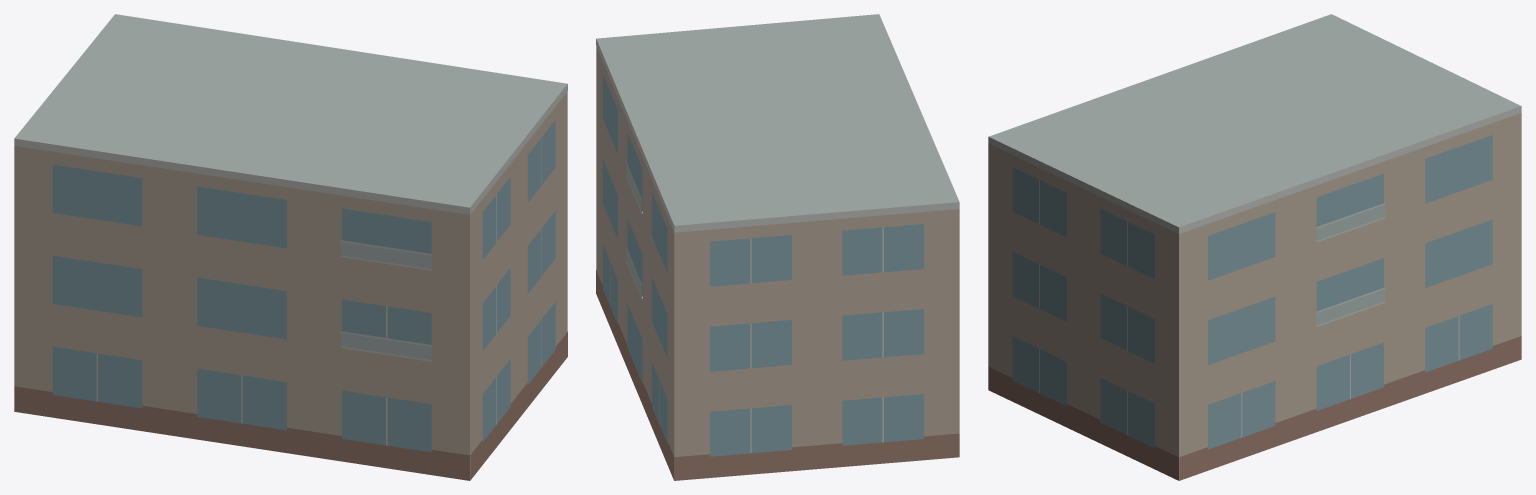
Rendered from survey-upis-32760645.glb.
3 renders of one model, left to right at view 1: azimuth 30°, elevation 25°; view 2: azimuth 150°, elevation 25°; view 3: azimuth 270°, elevation 25°, orthographic. The views are drawn at different scales.
Parts seen in each view (by area): view 1: survey-upis-32760645.tmp; view 2: survey-upis-32760645.tmp; view 3: survey-upis-32760645.tmp.
Boxes of the visible parts, x1,y1,x2,y2 form: survey-upis-32760645.tmp: (14, 14, 567, 480); survey-upis-32760645.tmp: (596, 14, 959, 480); survey-upis-32760645.tmp: (988, 14, 1521, 480).
Bounding box in the file's own units: 16.53 × 9.15 × 17.45.
